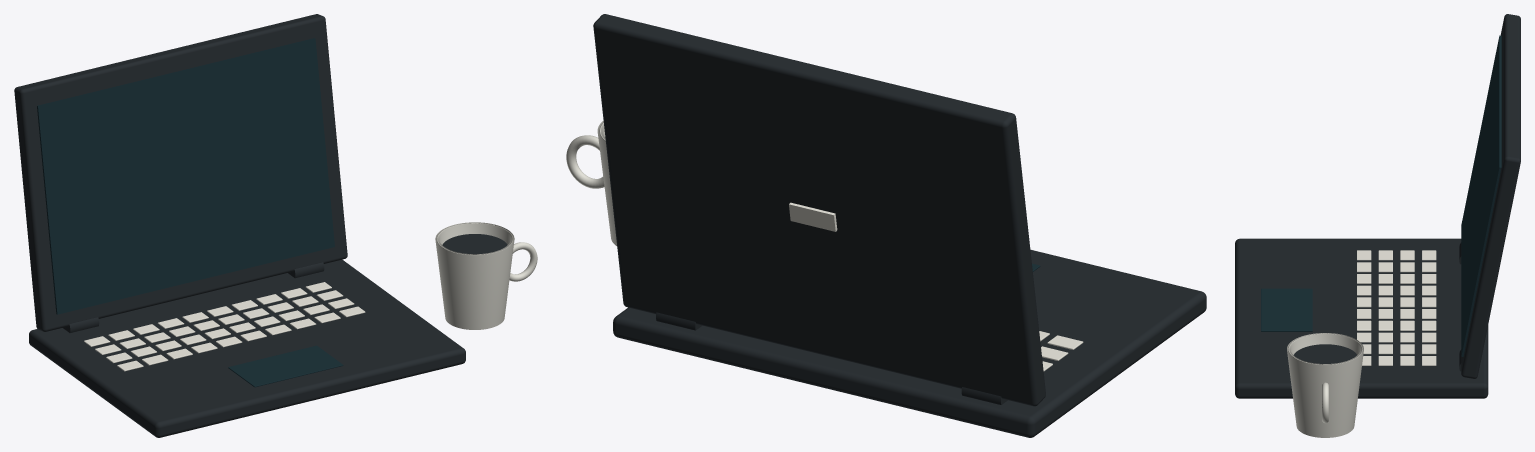
Rendered from accessory-2.glb.
3 renders of one model, left to right at view 1: azimuth 30°, elevation 25°; view 2: azimuth 150°, elevation 25°; view 3: azimuth 270°, elevation 25°, orthographic. The views are drawn at different scales.
Parts seen in each view (by area): view 1: accessory:2:archviz; view 2: accessory:2:archviz; view 3: accessory:2:archviz.
Boxes of the visible parts, x1,y1,x2,y2 form: accessory:2:archviz: (14,14,537,437); accessory:2:archviz: (566,14,1206,437); accessory:2:archviz: (1235,14,1520,437).
Size of the model in its own units: 0.398 by 0.2204 by 0.2371.
